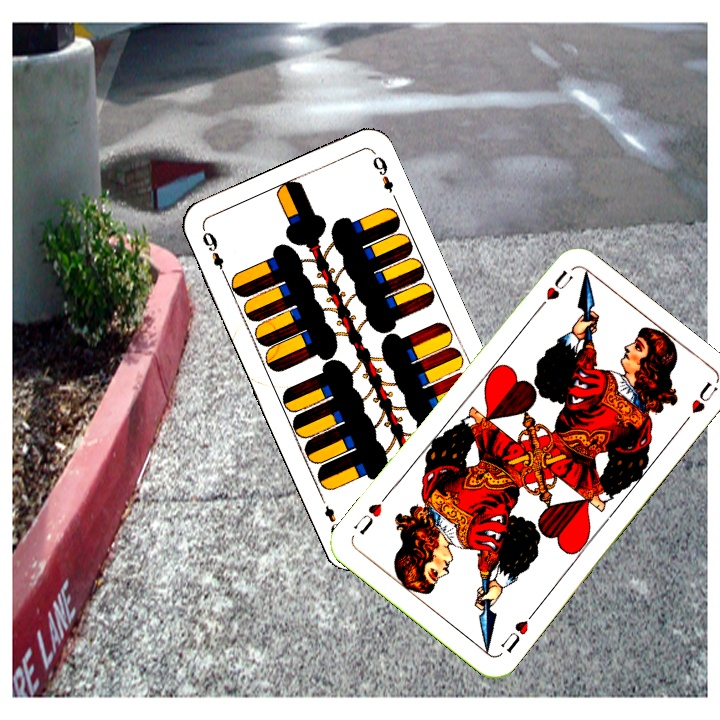E9: (198, 225, 230, 281)
HU: (531, 266, 576, 315), (496, 607, 538, 656)
